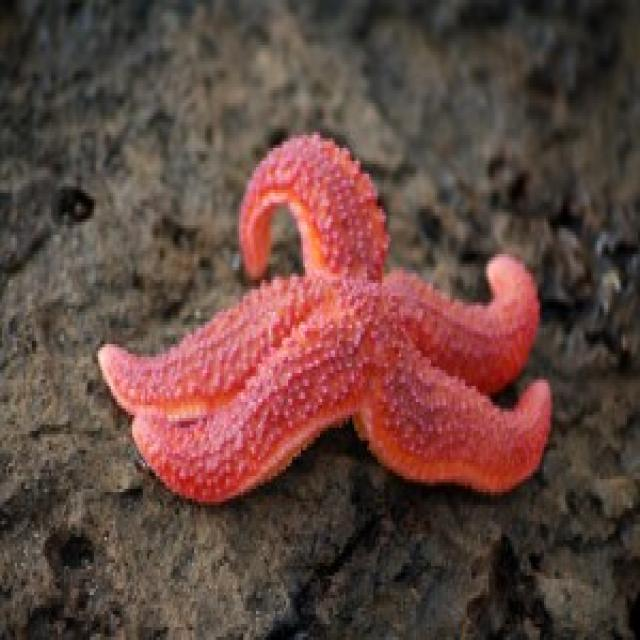Starfish: (89, 116, 561, 498)
